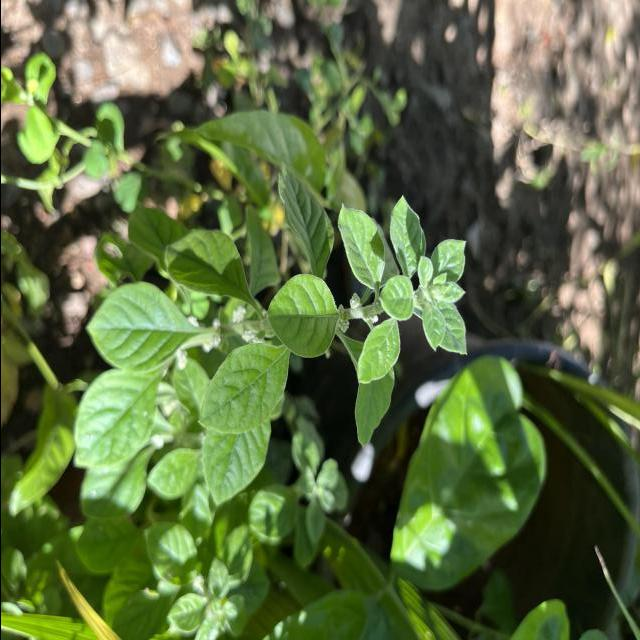Aerva lanata: (194, 341, 290, 436), (264, 272, 340, 360), (334, 202, 386, 300), (386, 192, 426, 280), (354, 318, 402, 387), (376, 273, 416, 324)
